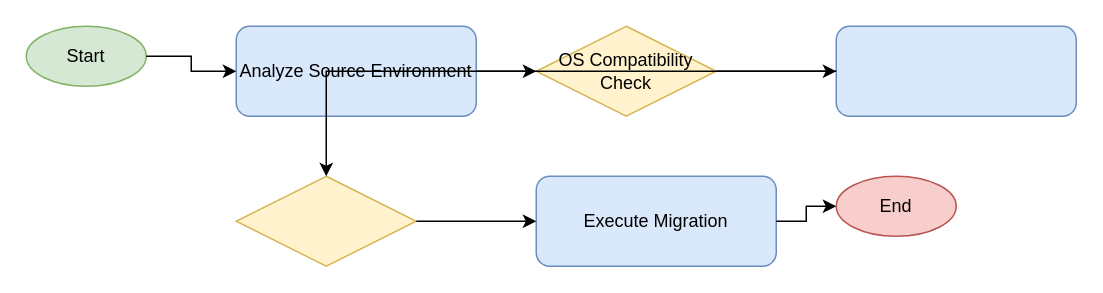
This 1103x293 diagram has some shape labels left out. The centre of each missing label's shape, as x and y in pixels:
Migration Method Selection: (x=325, y=220)
Prepare Target Environment: (x=955, y=70)
